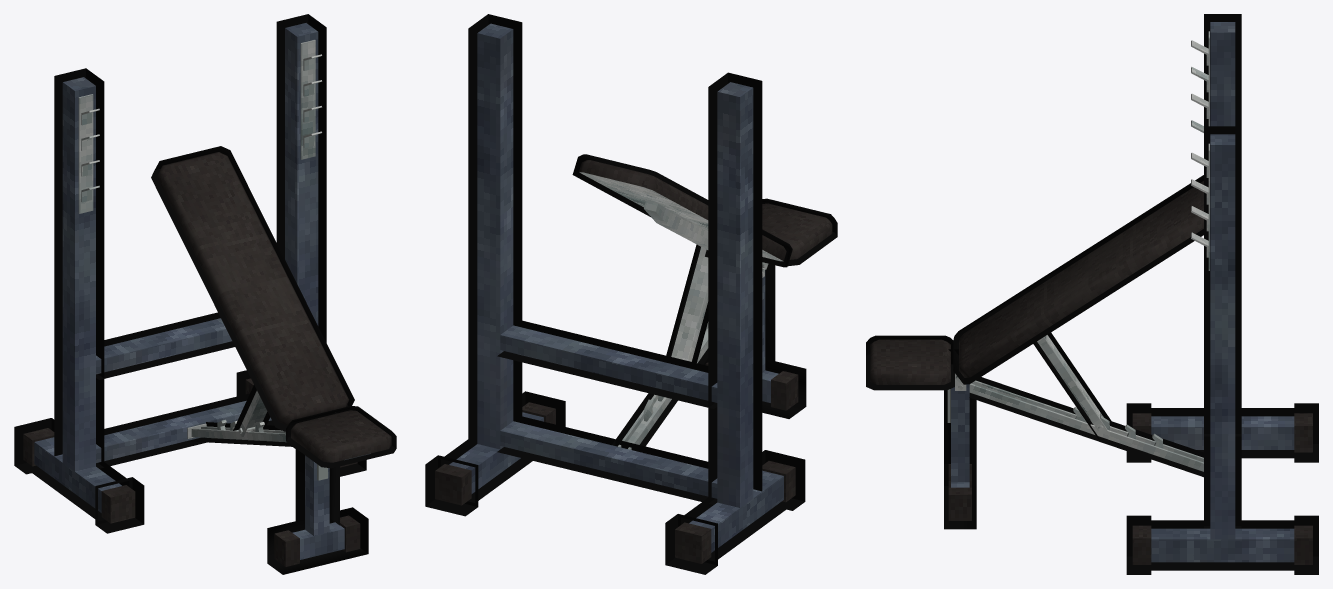
Rendered from WeightBench.glb.
3 views of the same model, side by side, from view 1: azimuth 30°, elevation 25°; view 2: azimuth 150°, elevation 25°; view 3: azimuth 270°, elevation 25° (orthographic). The views are drawn at different scales.
Parts seen in each view (by area): view 1: WeightBench; view 2: WeightBench; view 3: WeightBench.
Boxes of the visible parts, x1,y1,x2,y2 form: WeightBench: (14, 14, 396, 574); WeightBench: (425, 14, 837, 574); WeightBench: (866, 14, 1318, 574).
Bounding box in the file's own units: 1.12 × 1.72 × 1.63.
Materials: 2 (1 with a texture image).
